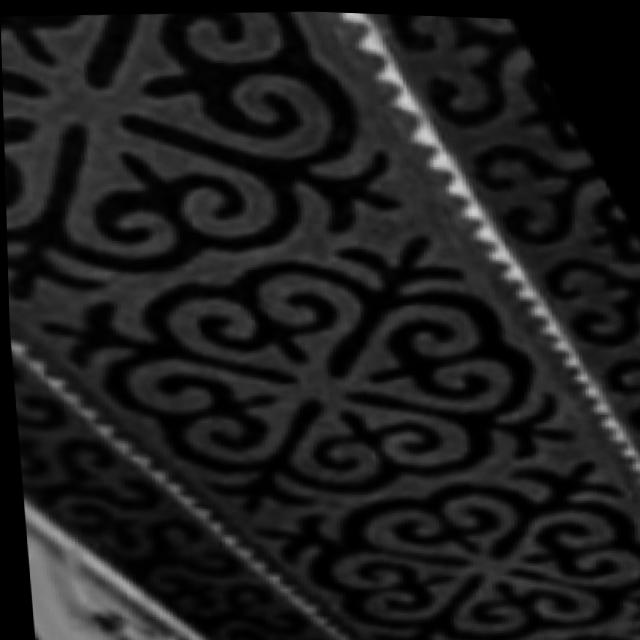Unity: (26, 208, 598, 532), (1, 14, 429, 318), (257, 435, 640, 640)
